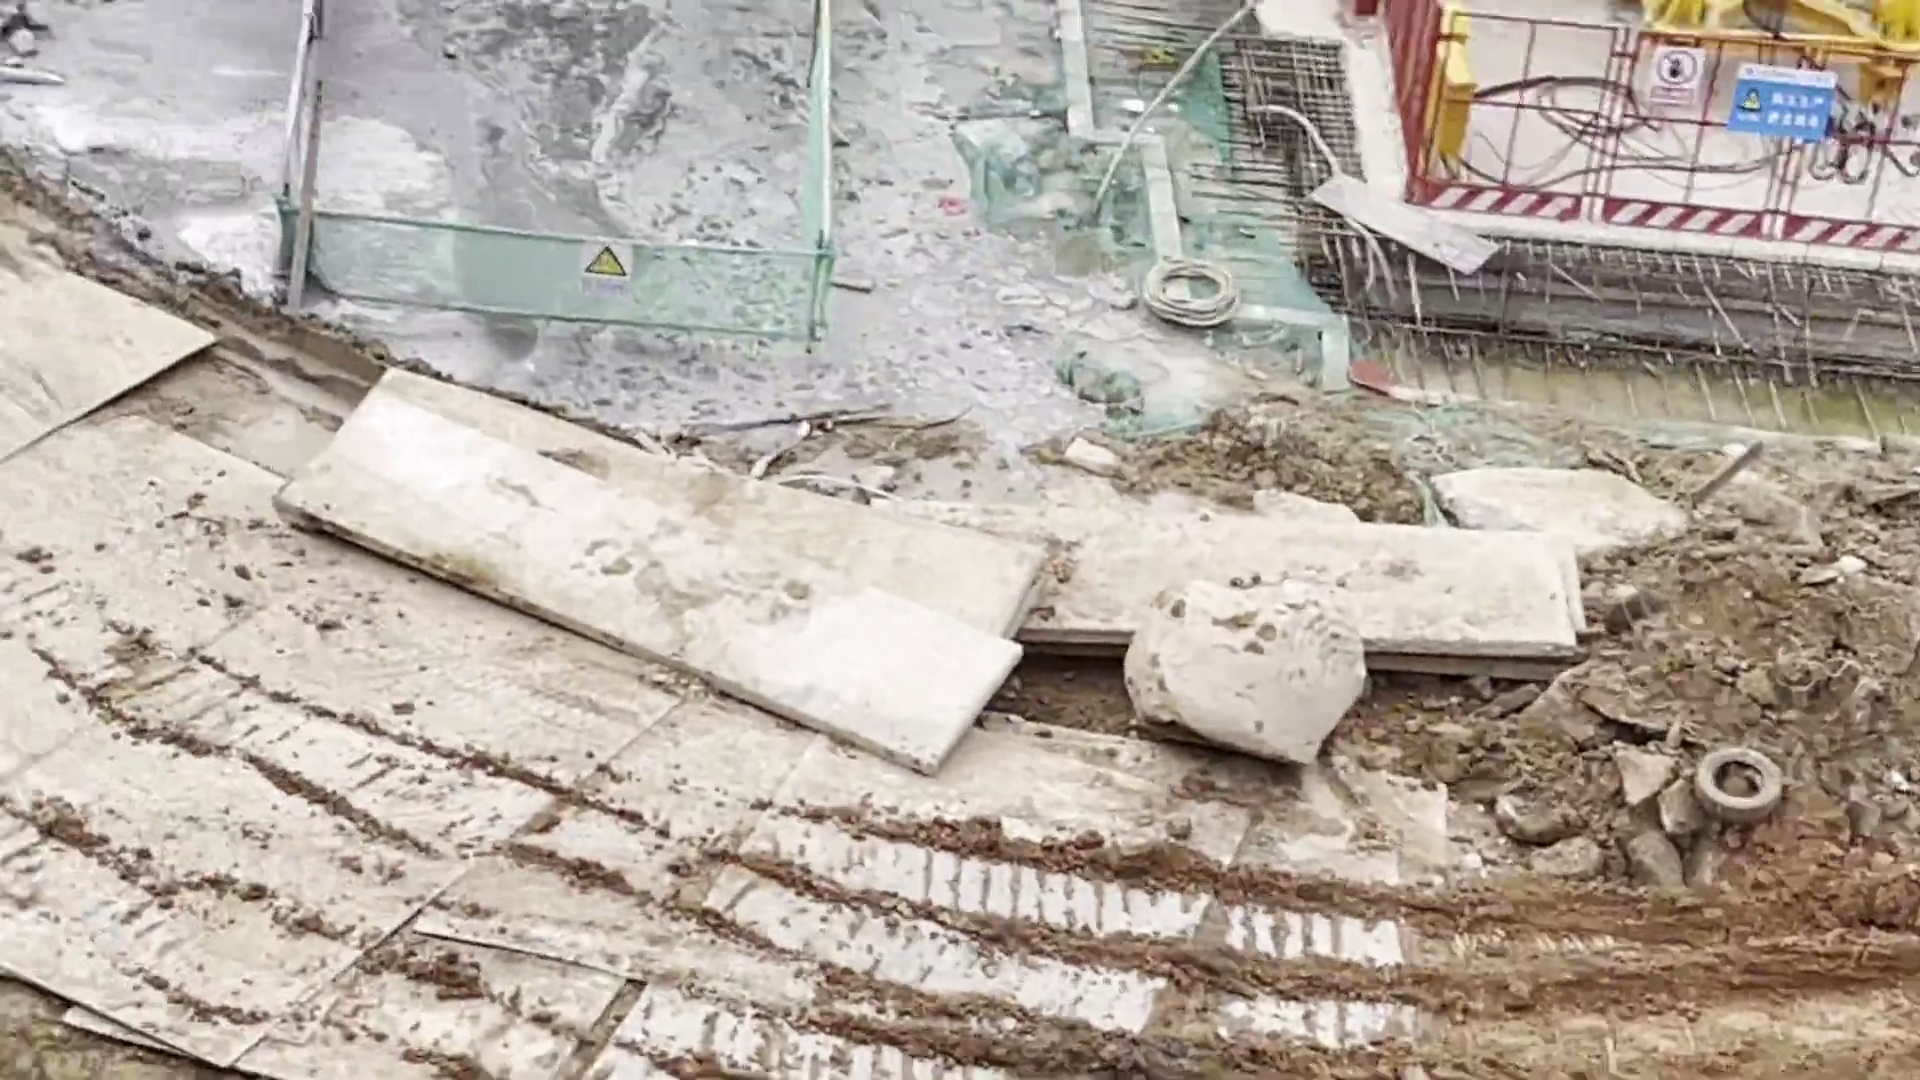ebox: (1433, 15, 1462, 174)
fence: (1437, 17, 1920, 243), (1387, 4, 1433, 185)
slogan: (1724, 66, 1833, 149), (1644, 41, 1704, 108), (582, 239, 633, 291)
